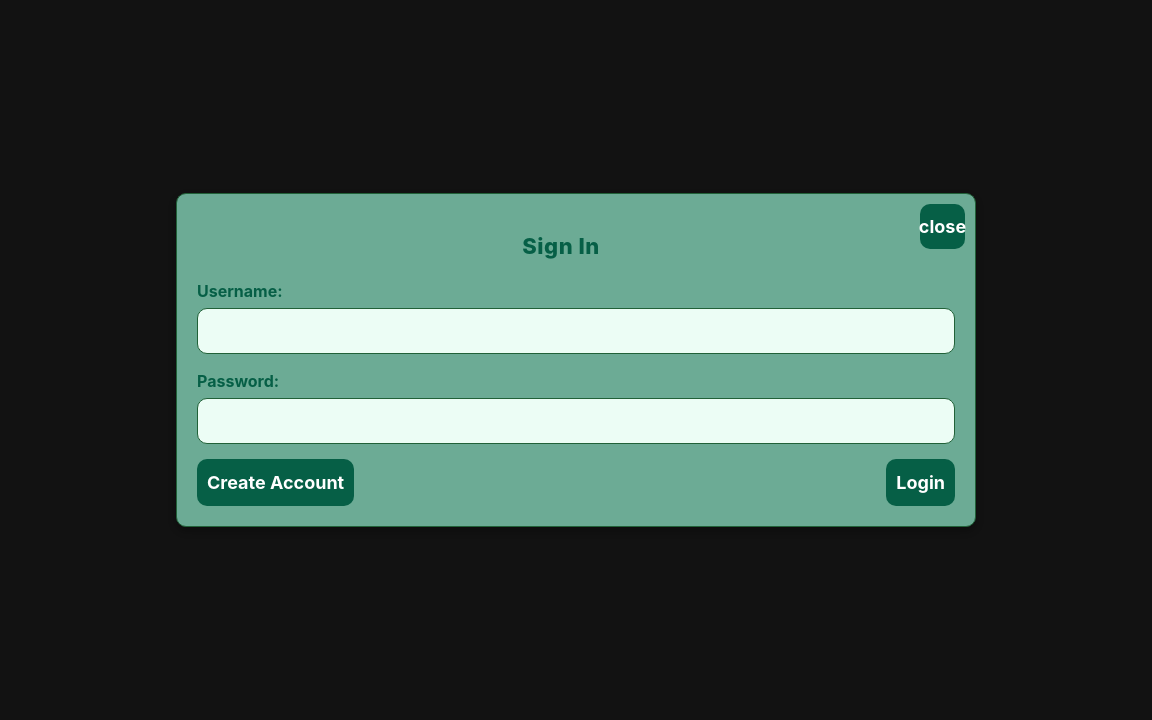
SignIn › form submission › should show error message when login fails
This screenshot has width=1152, height=720.
Type "testuser" into the field labelled "Username:" at (576, 331), box [197,308,955,354]
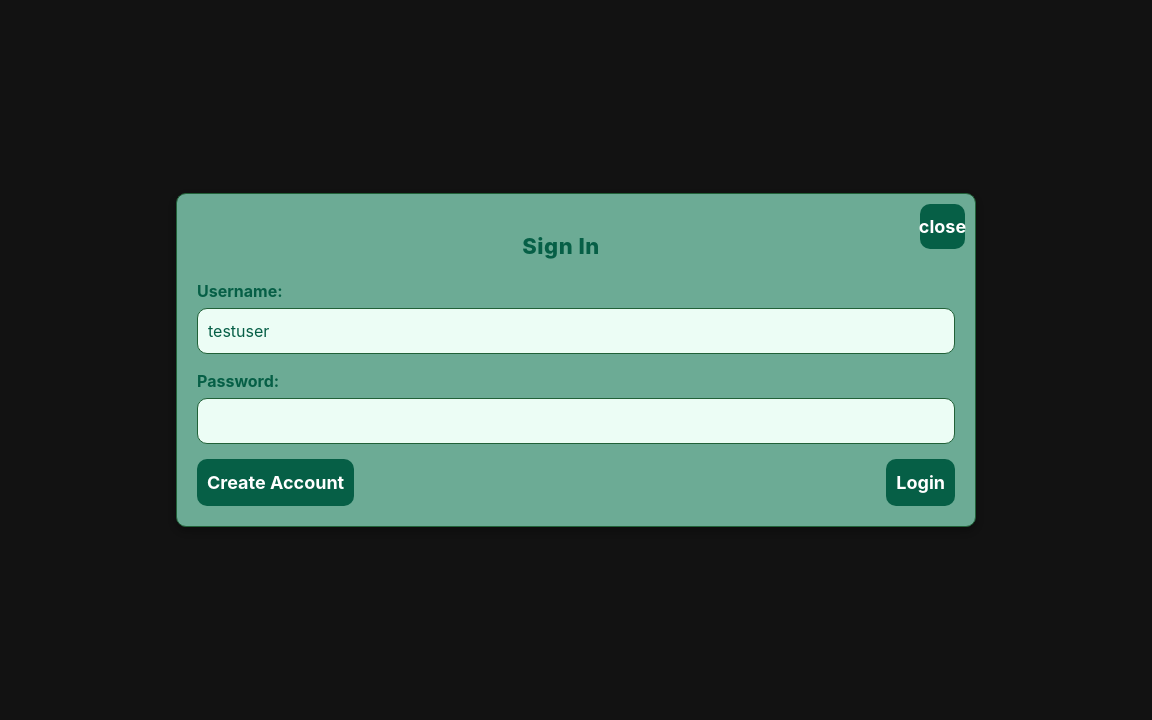
Type "wrongpass" into the password field labelled "Password:" at (576, 421), box [197,398,955,444]
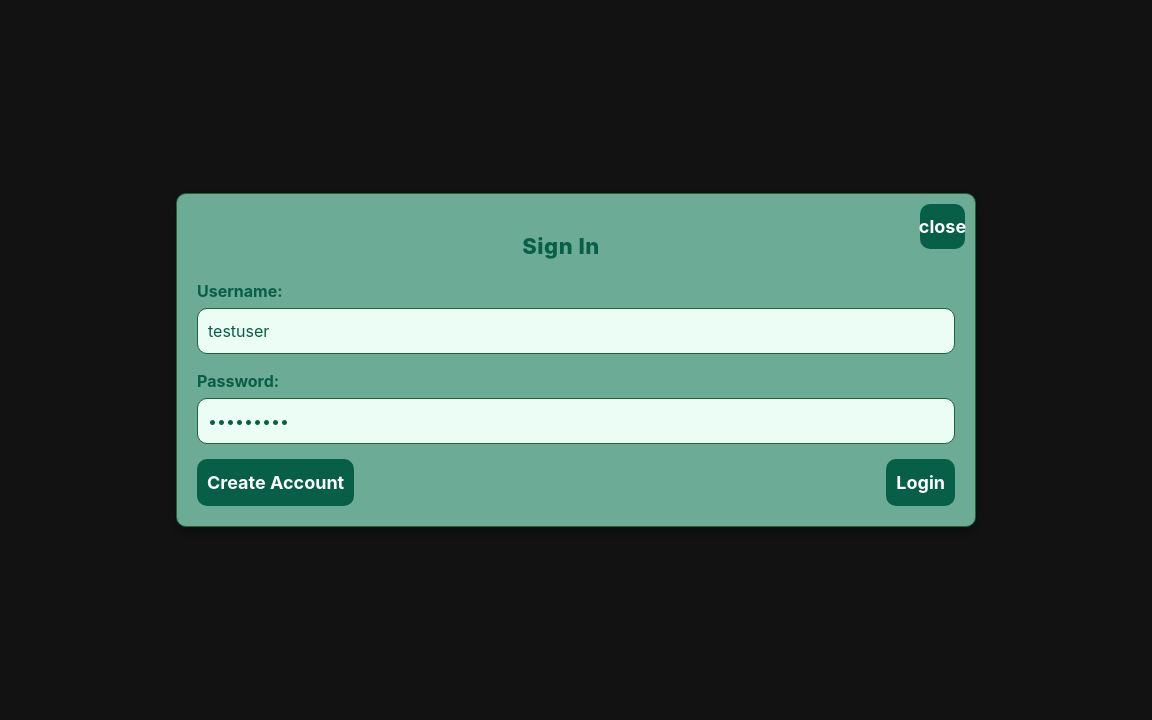
Click the button "Login" at (921, 482), box [886,459,955,506]
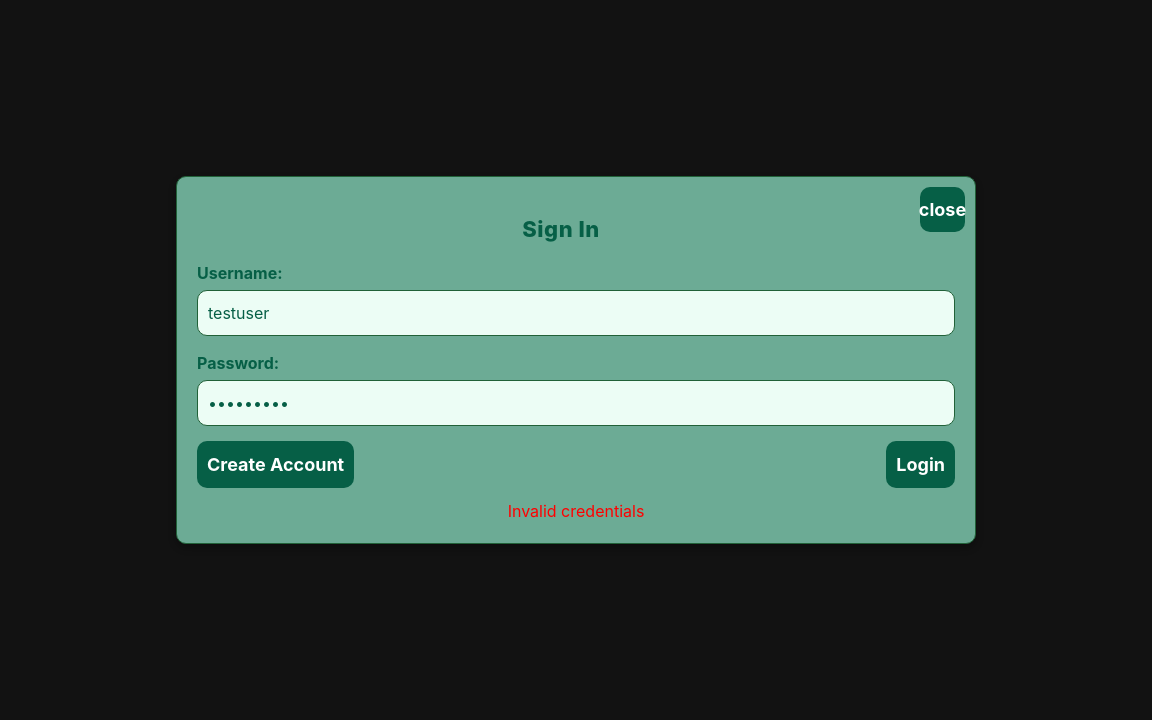
Expected: the text "Invalid credentials" is shown, [508,501,644,521]
